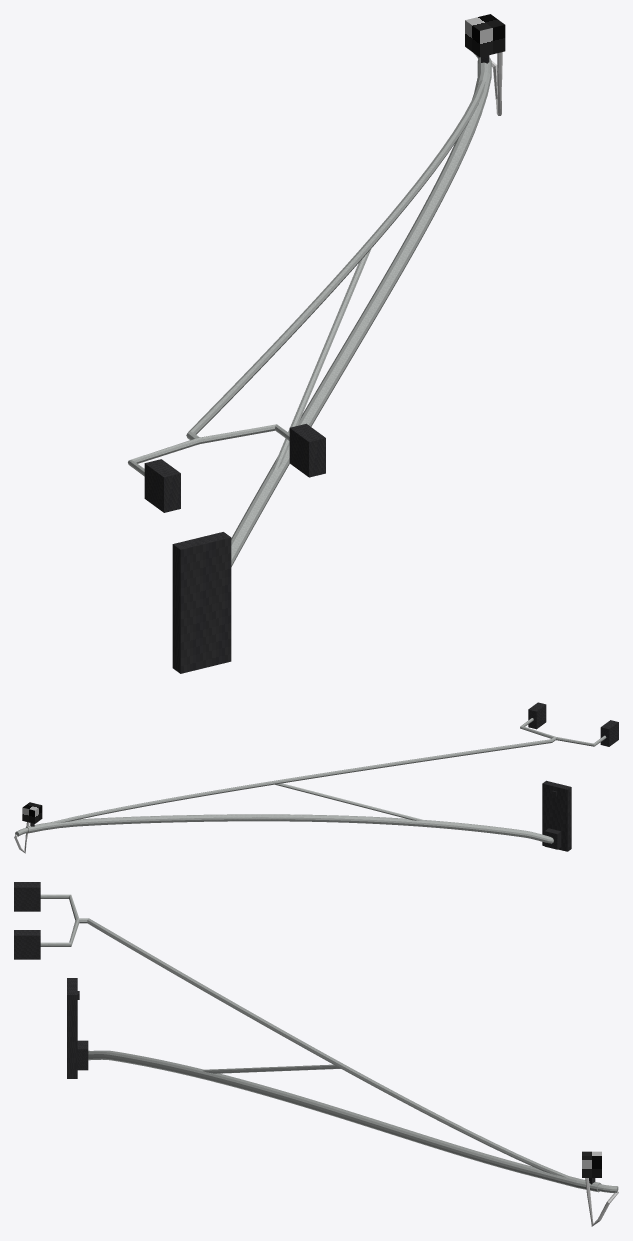
File: arm_7_right_wired.obj
3 renders of one model, top to bottom at view 1: azimuth 30°, elevation 25°; view 2: azimuth 150°, elevation 25°; view 3: azimuth 270°, elevation 25°, orthographic. The views are drawn at different scales.
Parts seen in each view (by area): view 1: pole_light_mount_7_right_wired; view 2: pole_light_mount_7_right_wired; view 3: pole_light_mount_7_right_wired.
Boxes of the visible parts, x1,y1,x2,y2 form: pole_light_mount_7_right_wired: [128, 14, 505, 673]; pole_light_mount_7_right_wired: [14, 702, 618, 853]; pole_light_mount_7_right_wired: [14, 882, 618, 1226].
Size of the model in its own units: 5.69 by 1.68 by 5.7.
